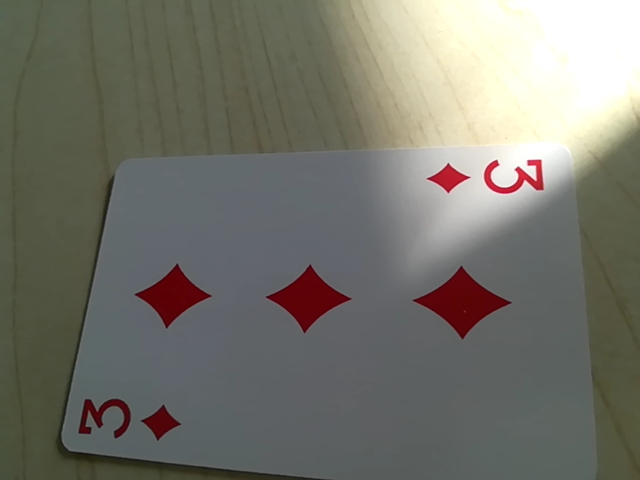fk 3: (69, 383, 184, 456), (417, 152, 552, 206)
